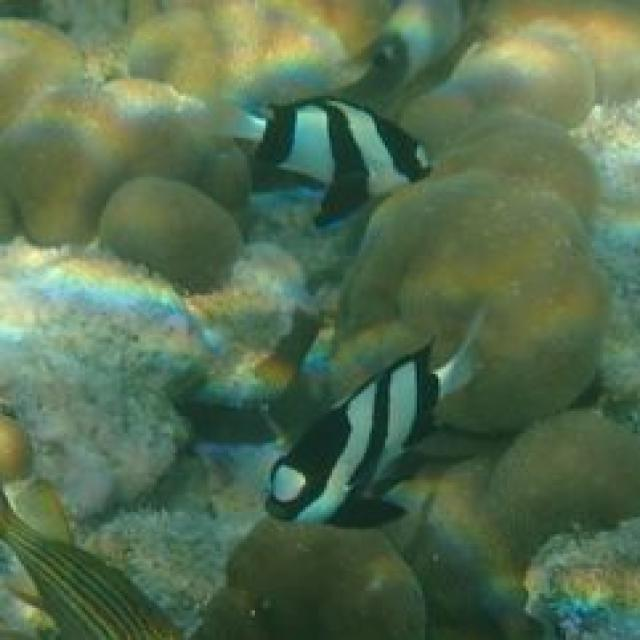ThreeStripedDamselfish: (263, 318, 481, 532), (218, 98, 430, 231)
